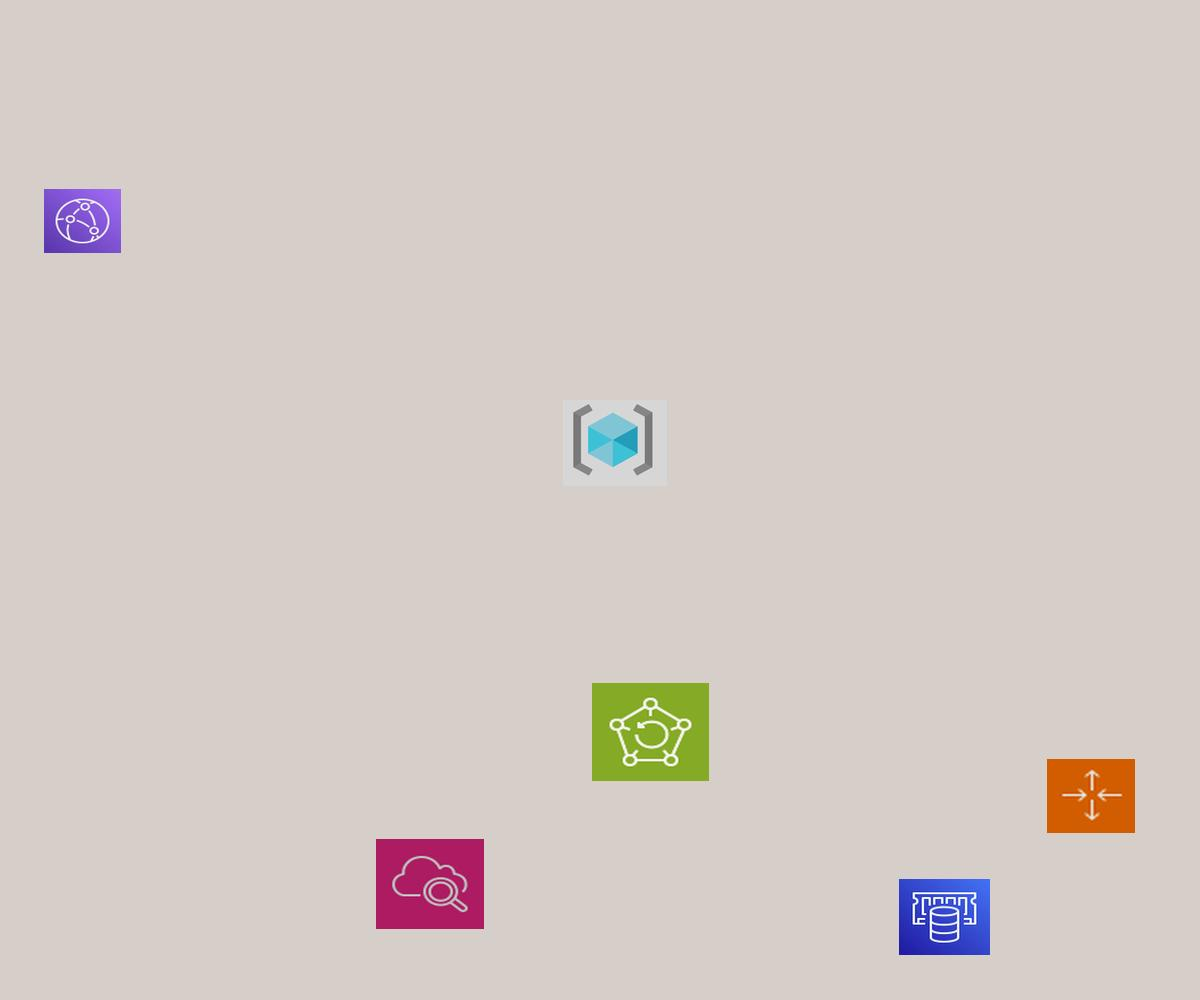AWS-Backup: (592, 683, 709, 781)
AWS-CloudFront: (44, 189, 121, 253)
AWS-CloudWatch: (376, 839, 484, 929)
AWS-ElastiCache: (899, 879, 990, 955)
AWS-Scaling-group: (1047, 759, 1135, 833)
Azure_resource_group: (563, 400, 667, 486)
